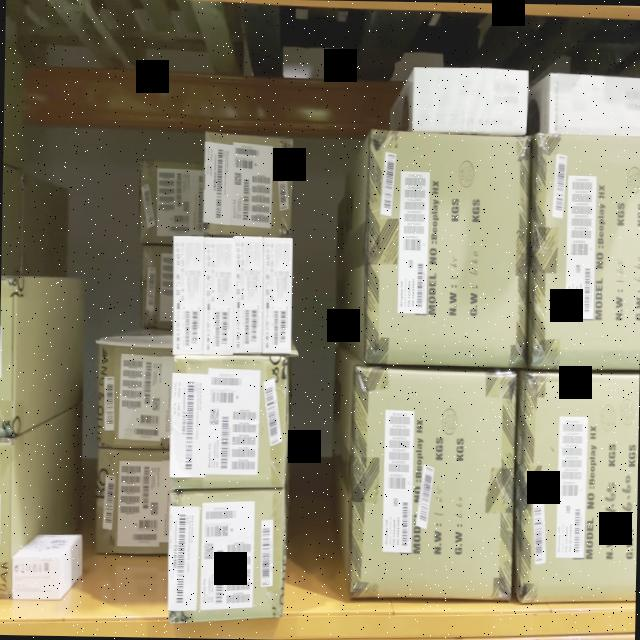box: (354, 370, 515, 602), (370, 134, 526, 368), (172, 362, 284, 488), (170, 493, 282, 614), (415, 68, 527, 132), (174, 238, 204, 358), (264, 236, 292, 354), (204, 238, 232, 354), (234, 235, 260, 352), (11, 562, 63, 600)
